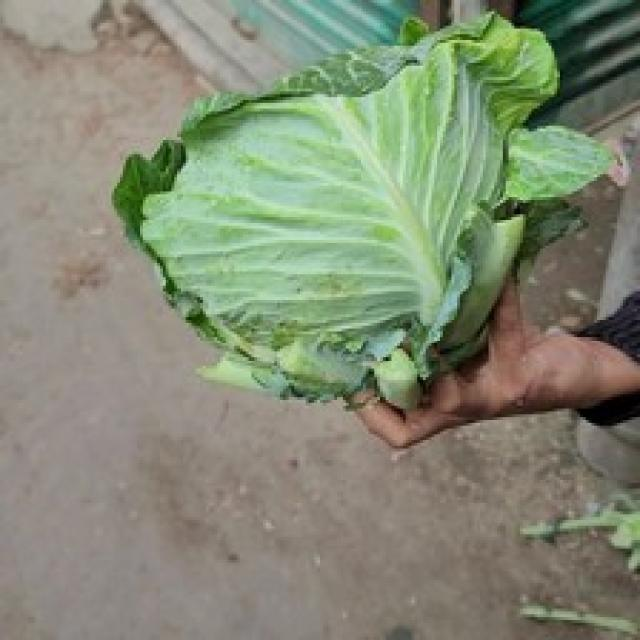Cabbage: (109, 6, 620, 411)
